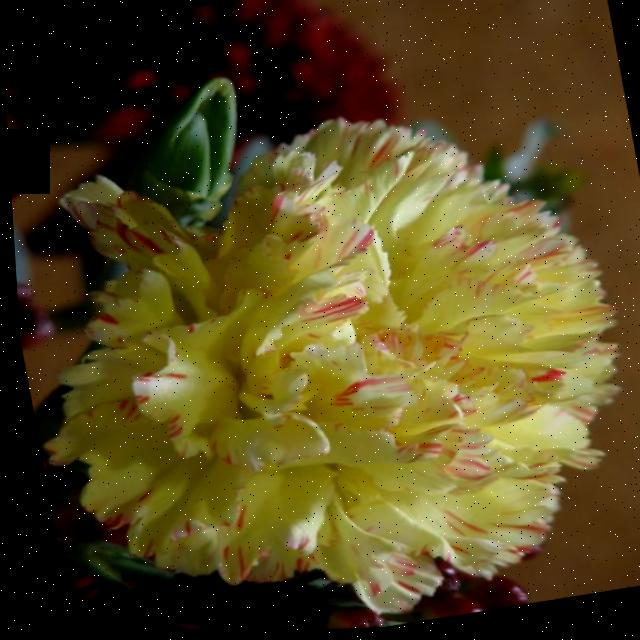carnation: (28, 94, 640, 639)
